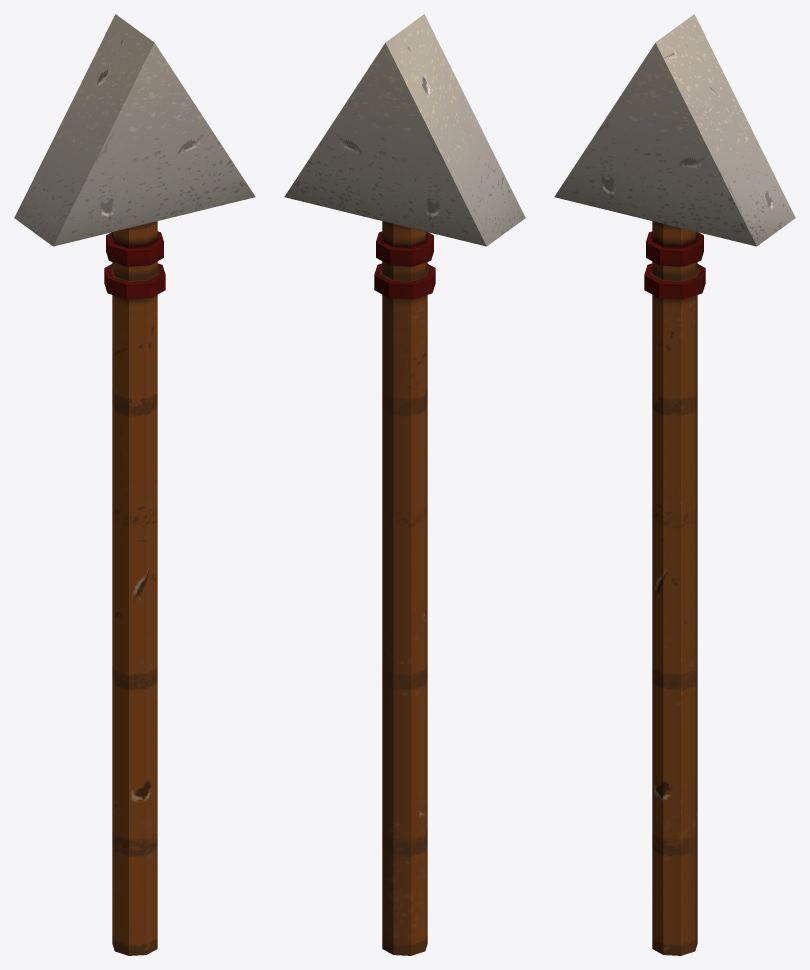
File: spear_lv1.fbx
3 renders of one model, left to right at view 1: azimuth 30°, elevation 25°; view 2: azimuth 150°, elevation 25°; view 3: azimuth 330°, elevation 25°, orthographic.
Visible parts, largest first — view 1: spearHandle, spearHead; view 2: spearHandle, spearHead; view 3: spearHandle, spearHead.
Boxes of the visible parts, box(x1,y1,x2,y2) form: spearHandle: box(104, 221, 165, 955); spearHead: box(14, 14, 255, 246); spearHandle: box(374, 221, 435, 955); spearHead: box(284, 14, 525, 246); spearHandle: box(644, 221, 705, 955); spearHead: box(554, 14, 795, 246).
Size of the model in its own units: 0.3 by 1.3 by 0.1.
1 material, 1 textured.
